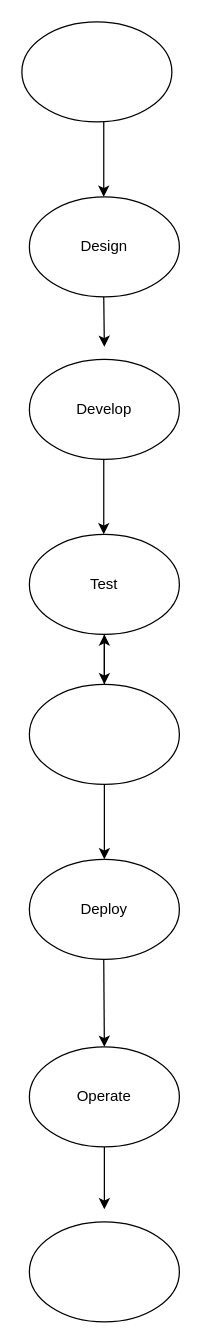
Image size: 201x1344. Some labels were removed from this diagram. Each missing label, with the box of its shape:
Monitor: (28, 1221, 179, 1322)
Plan: (21, 21, 172, 122)
Release: (28, 683, 179, 784)
